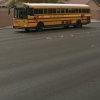Bus: (8, 0, 91, 31)
